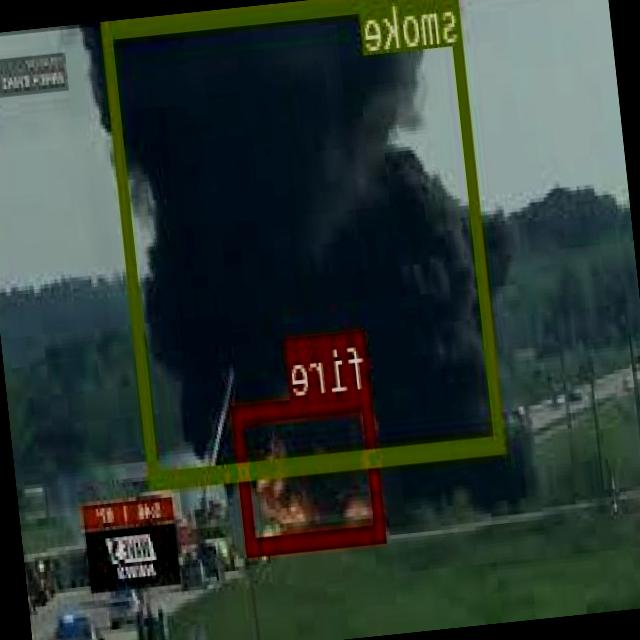fire: (234, 388, 388, 553)
smoke: (103, 0, 506, 483)
